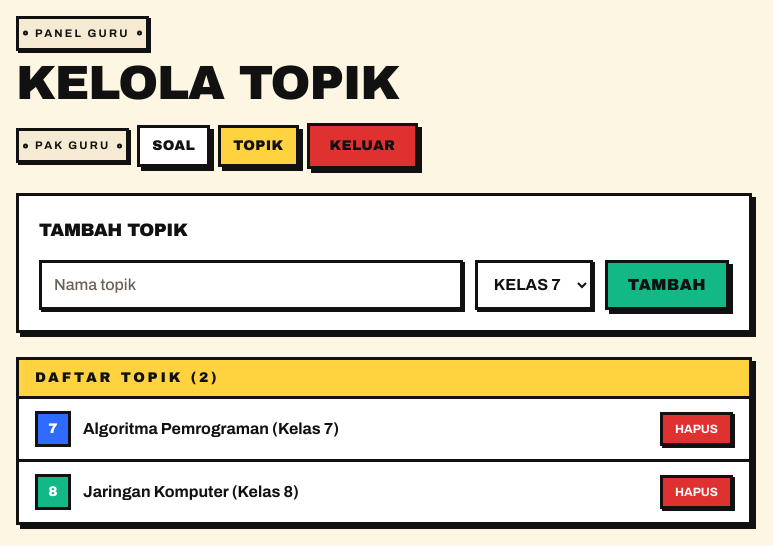
Admin CRUD Pages › AdminTopics › deletes a topic when confirmed and reloads topic list
Expected: the text "Algoritma Pemrograman (Kelas 7)" is shown, x1=83 y1=420 x2=339 y2=436
Click the button "Hapus" in the row of "Algoritma Pemrograman" at (696, 428), box x1=660 y1=412 x2=733 y2=446
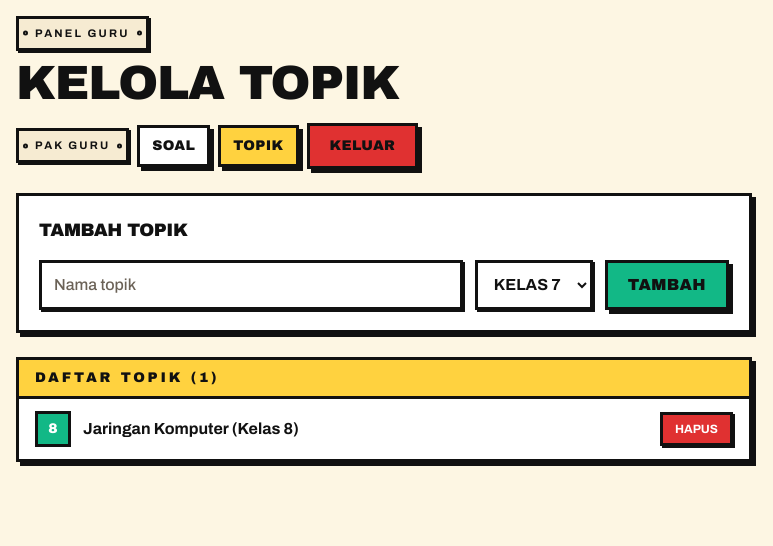
Expected: the text "Jaringan Komputer (Kelas 8)" is shown, x1=83 y1=420 x2=299 y2=436
Expected: the text "Algoritma Pemrograman (Kelas 7)" is gone
